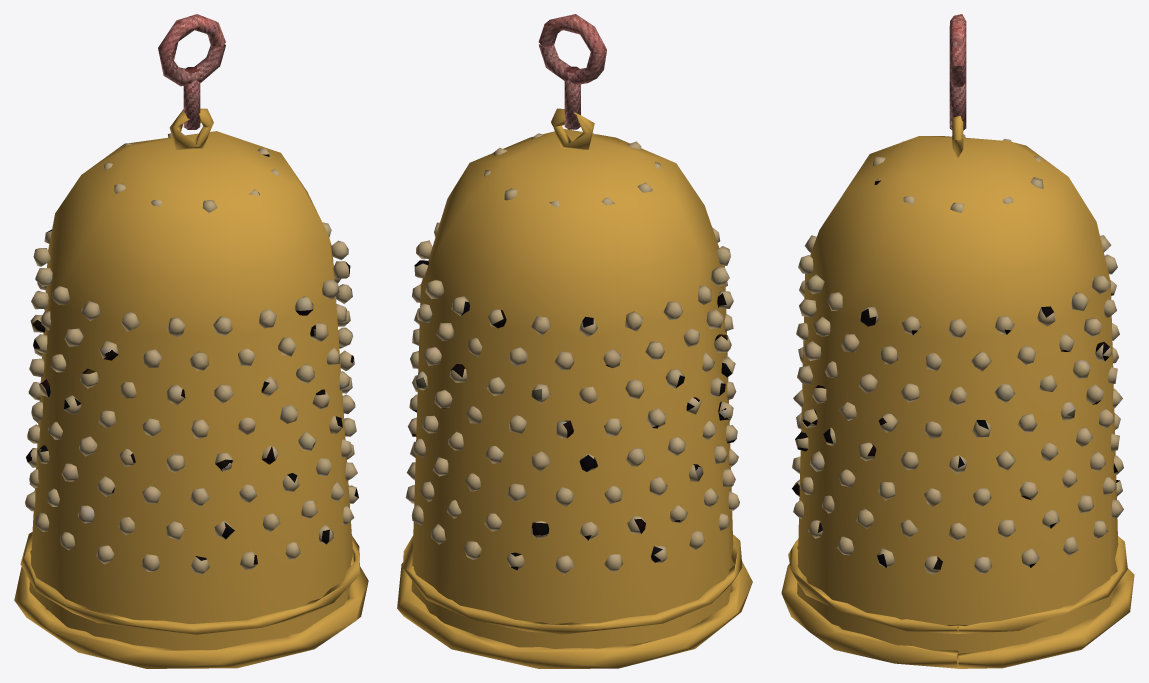
File: lantern_thimble.glb
3 views of the same model, side by side, from view 1: azimuth 30°, elevation 25°; view 2: azimuth 150°, elevation 25°; view 3: azimuth 270°, elevation 25° (orthographic).
Parts seen in each view (by area): view 1: prop_lantern_thimble_brass, prop_lantern_thimble_paper, prop_lantern_thimble_felt; view 2: prop_lantern_thimble_brass, prop_lantern_thimble_paper, prop_lantern_thimble_felt; view 3: prop_lantern_thimble_brass, prop_lantern_thimble_paper, prop_lantern_thimble_felt.
Boxes of the visible parts, x1=… form: prop_lantern_thimble_brass: x1=14, y1=108, x2=368, y2=668; prop_lantern_thimble_paper: x1=25, y1=133, x2=358, y2=574; prop_lantern_thimble_felt: x1=158, y1=14, x2=225, y2=129; prop_lantern_thimble_brass: x1=397, y1=108, x2=752, y2=668; prop_lantern_thimble_paper: x1=405, y1=133, x2=739, y2=574; prop_lantern_thimble_felt: x1=538, y1=14, x2=606, y2=129; prop_lantern_thimble_brass: x1=781, y1=116, x2=1134, y2=668; prop_lantern_thimble_paper: x1=792, y1=134, x2=1123, y2=574; prop_lantern_thimble_felt: x1=949, y1=14, x2=966, y2=130.
Bounding box in the file's own units: 0.1298 × 0.235 × 0.1293.
Materials: 3 (2 with a texture image).
